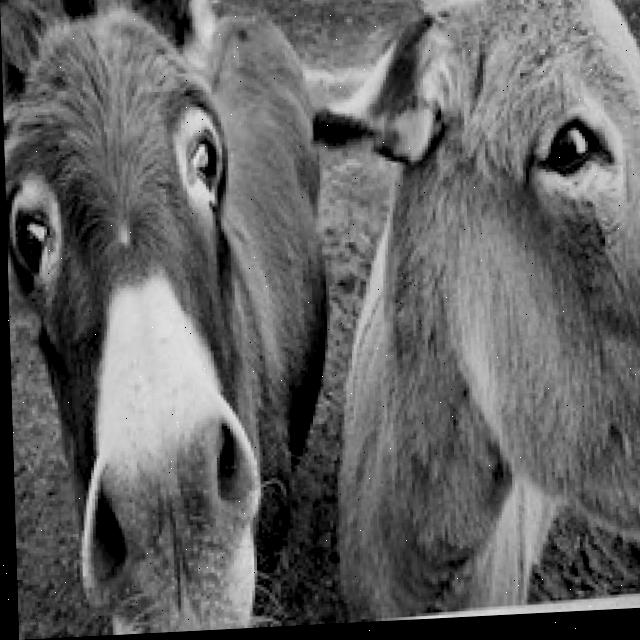Donkey: (0, 0, 339, 637), (306, 0, 640, 621)
